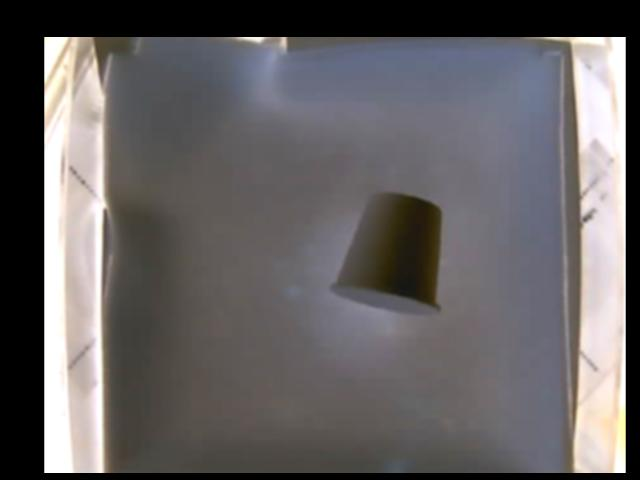Cup: (331, 193, 442, 317)
